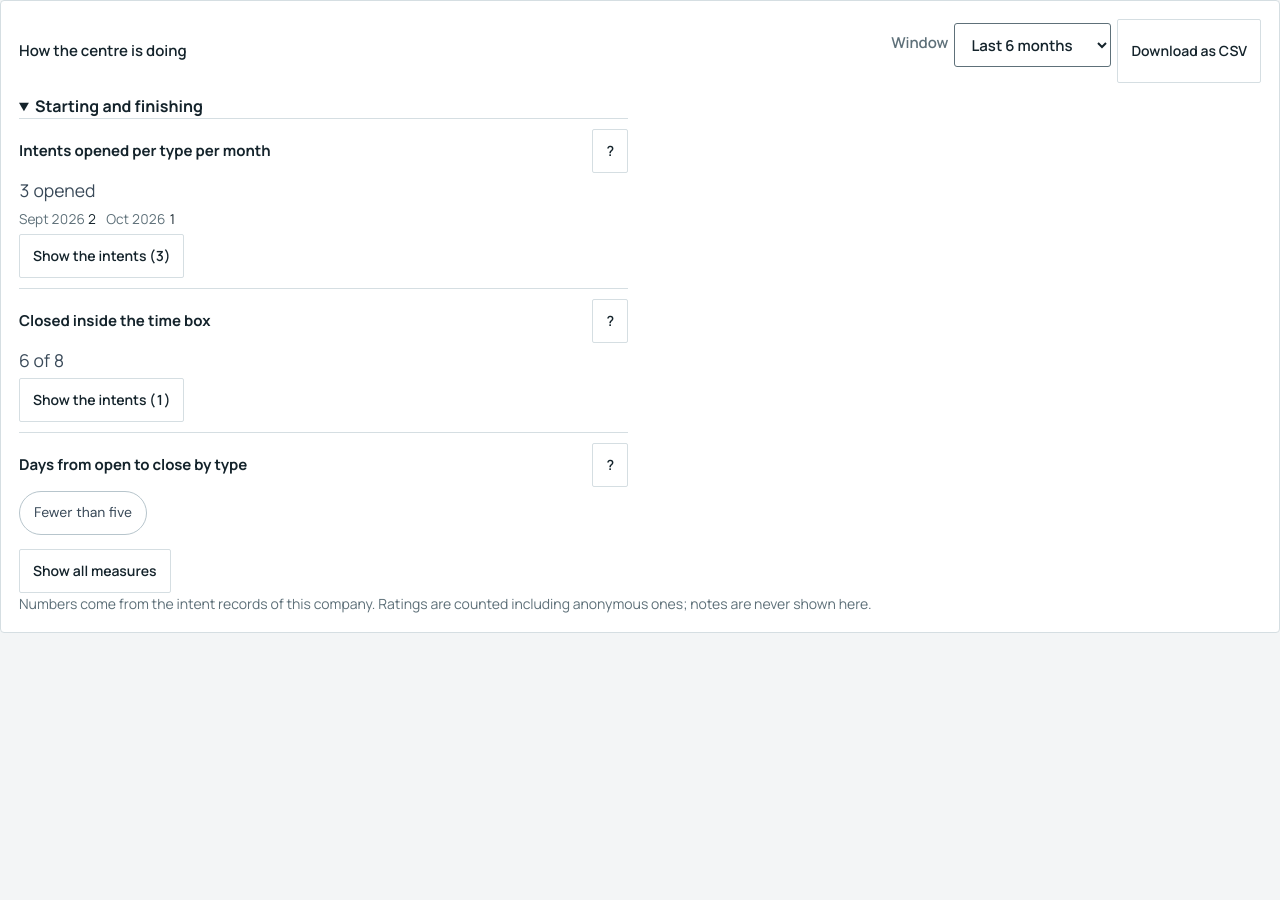
Test: CentreMeasures › expands to all four sections and shows the ratings rule from three
Click the button "Show all measures" at (95, 570), box [19,548,171,592]
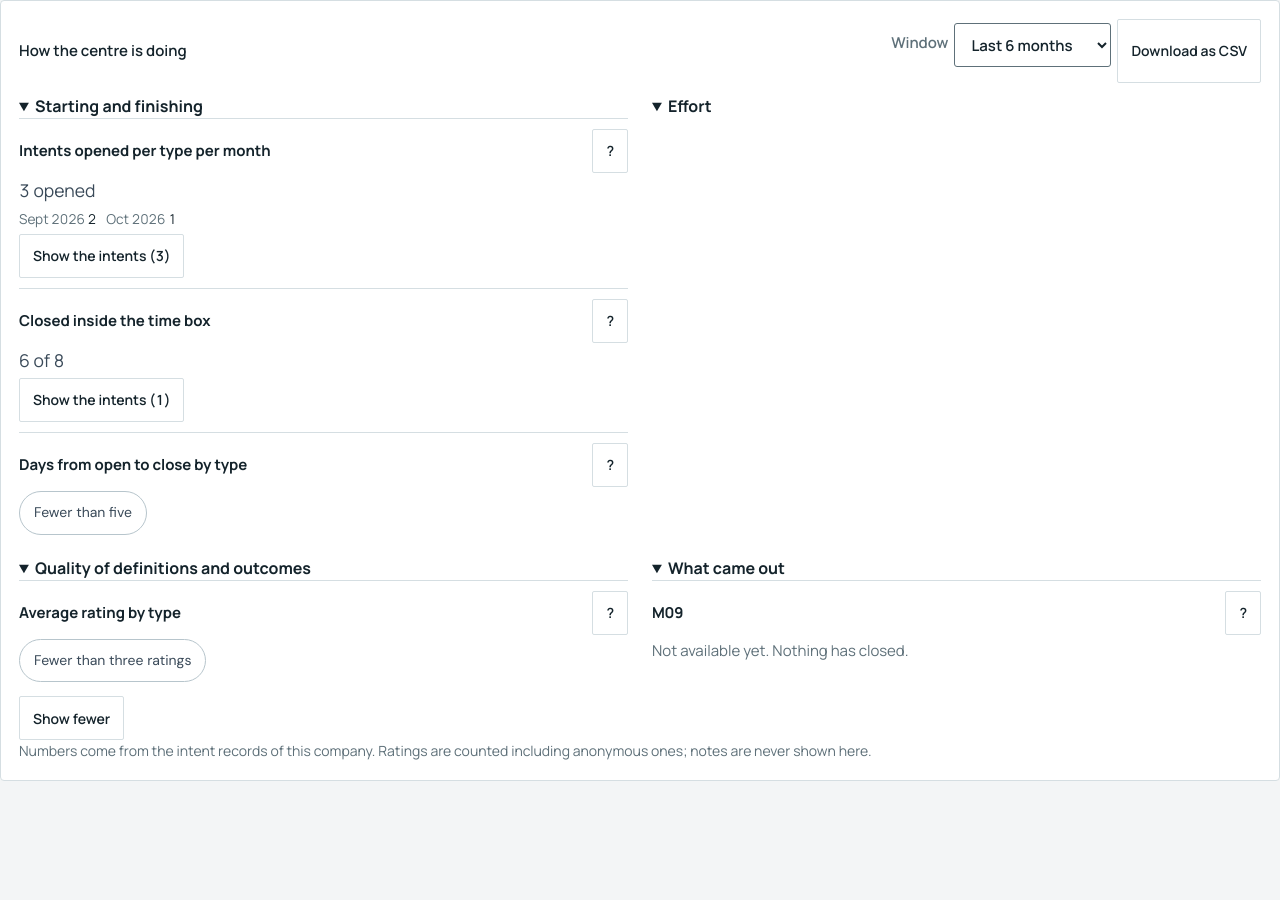
expect the heading "Effort" is shown: met, box [668,95,712,117]
expect the text "Fewer than three ratings" is shown: met, box [19,639,206,682]
expect the text "Not available yet. Nothing has closed." is shown: met, box [652,640,908,661]
